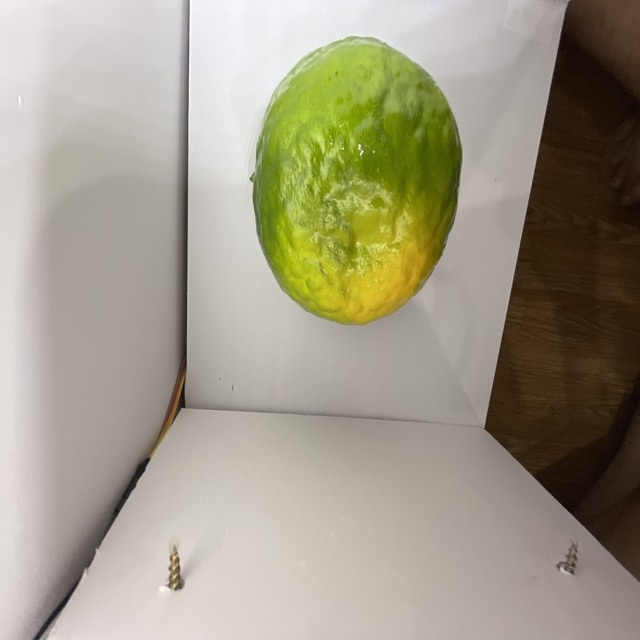Cam xanh: (245, 31, 469, 328)
